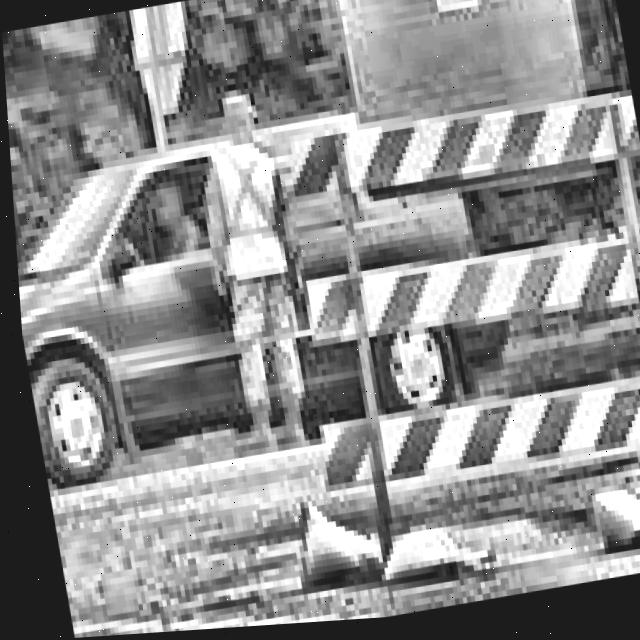light_vehicle: (3, 34, 550, 540)
